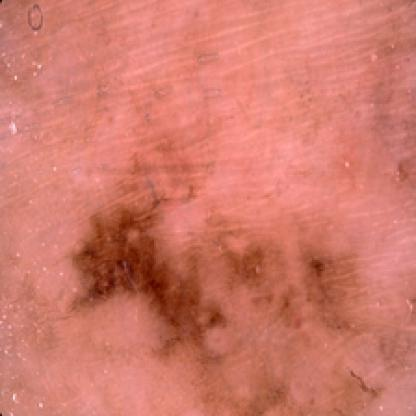malignant: (84, 171, 219, 340)
